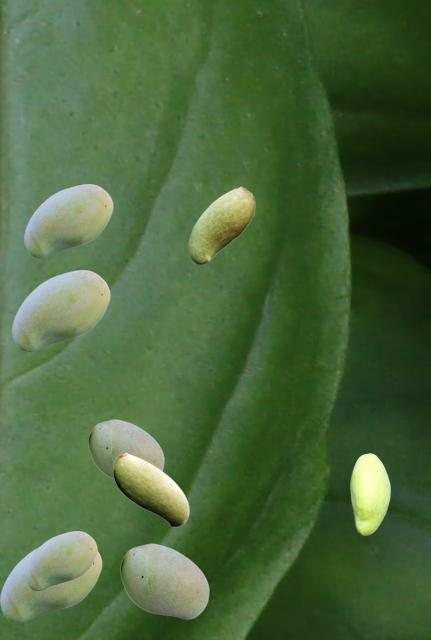green_mango: (12, 270, 109, 350), (0, 547, 101, 621), (120, 543, 208, 618), (24, 184, 112, 256), (113, 452, 188, 526), (188, 186, 254, 263), (88, 419, 163, 478), (25, 531, 96, 589), (350, 453, 389, 534)
